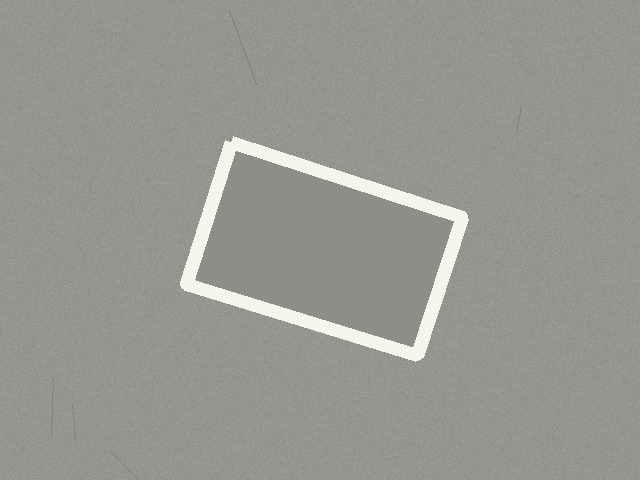parking_area: (186, 142, 462, 355)
